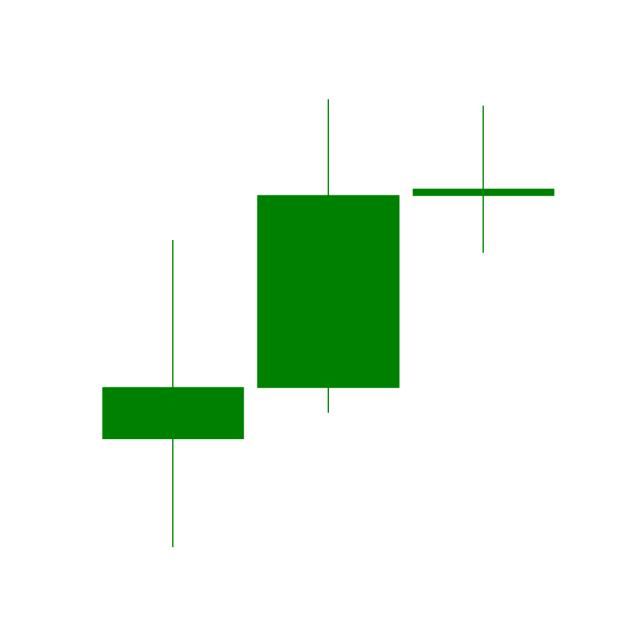Standard Doji: (408, 103, 558, 254)
spinning top: (97, 237, 249, 551)
